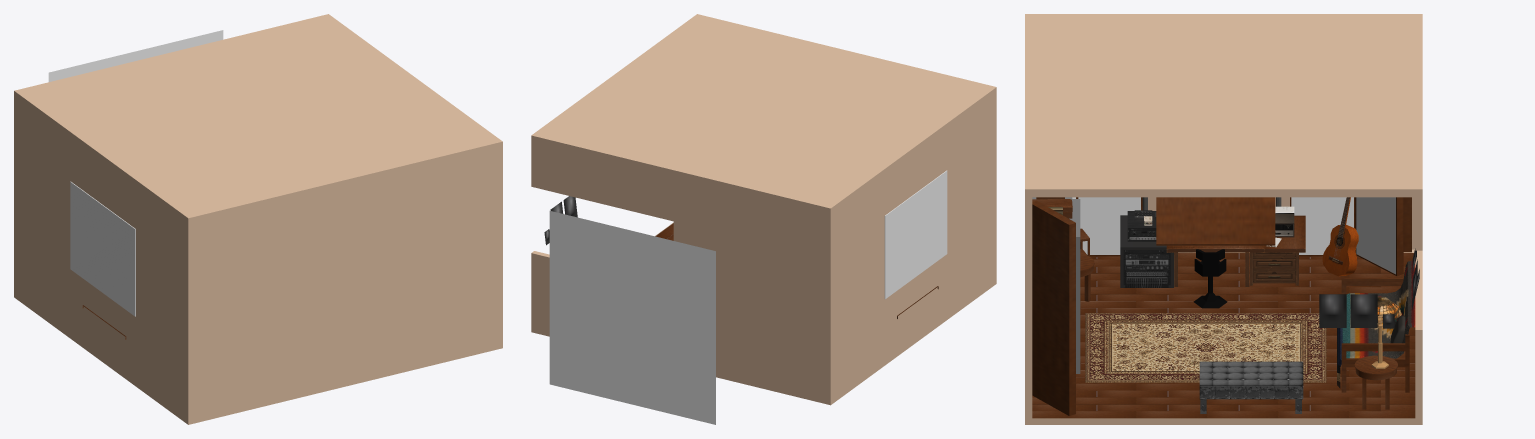
The picture shows the model from 3 angles, left to right: view 1: azimuth 30°, elevation 25°; view 2: azimuth 150°, elevation 25°; view 3: azimuth 270°, elevation 25°; orthographic projection. The views are drawn at different scales.
Visible parts, largest first — view 1: EdMaverickEstudio_V01, EmissiveTest1; view 2: EdMaverickEstudio_V01, EmissiveTest1; view 3: EdMaverickEstudio_V01.
Part boxes in pixels (box(x1,y1,x2,y2)): EdMaverickEstudio_V01: box(14, 14, 502, 424); EmissiveTest1: box(48, 30, 223, 81); EdMaverickEstudio_V01: box(531, 14, 996, 405); EmissiveTest1: box(549, 211, 715, 424); EdMaverickEstudio_V01: box(1025, 14, 1422, 424).
Size of the model in its own units: 4.86 by 3.16 by 5.79.
Materials: 5 (3 with a texture image).
